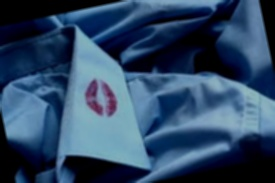lipstick: (79, 71, 124, 130)
